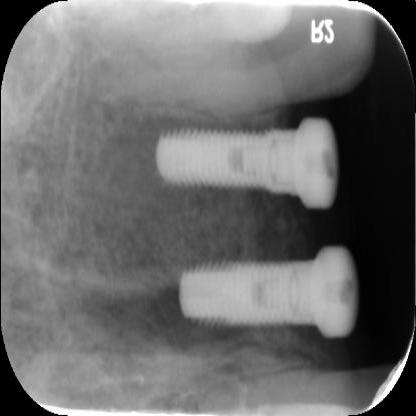Bego: (176, 251, 318, 343), (151, 125, 297, 204)
